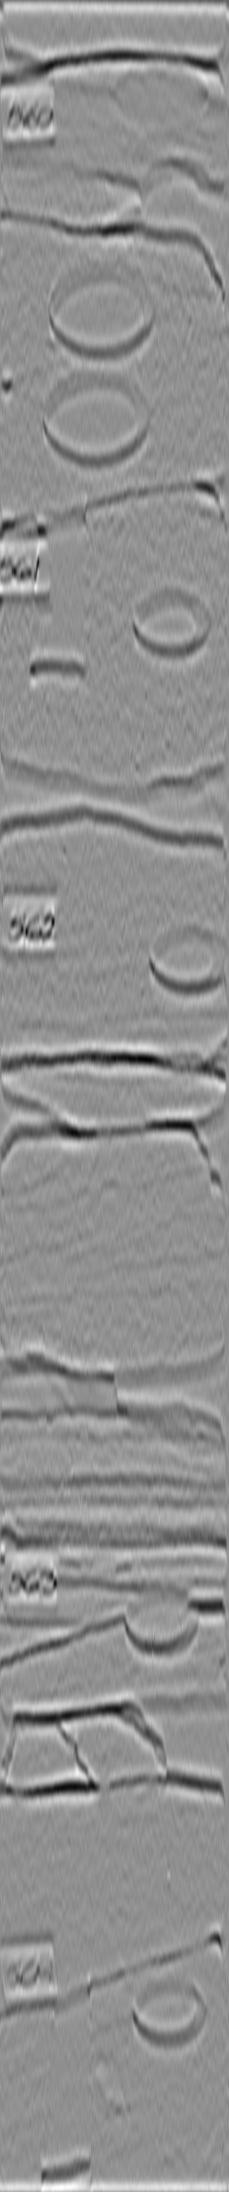hplug: (124, 576, 215, 663), (117, 1576, 204, 1664), (142, 916, 229, 1000), (121, 1974, 215, 2049), (120, 145, 216, 217)
scal: (42, 252, 161, 361), (38, 365, 154, 474)
vplug: (35, 1987, 103, 2192), (27, 500, 101, 686)
